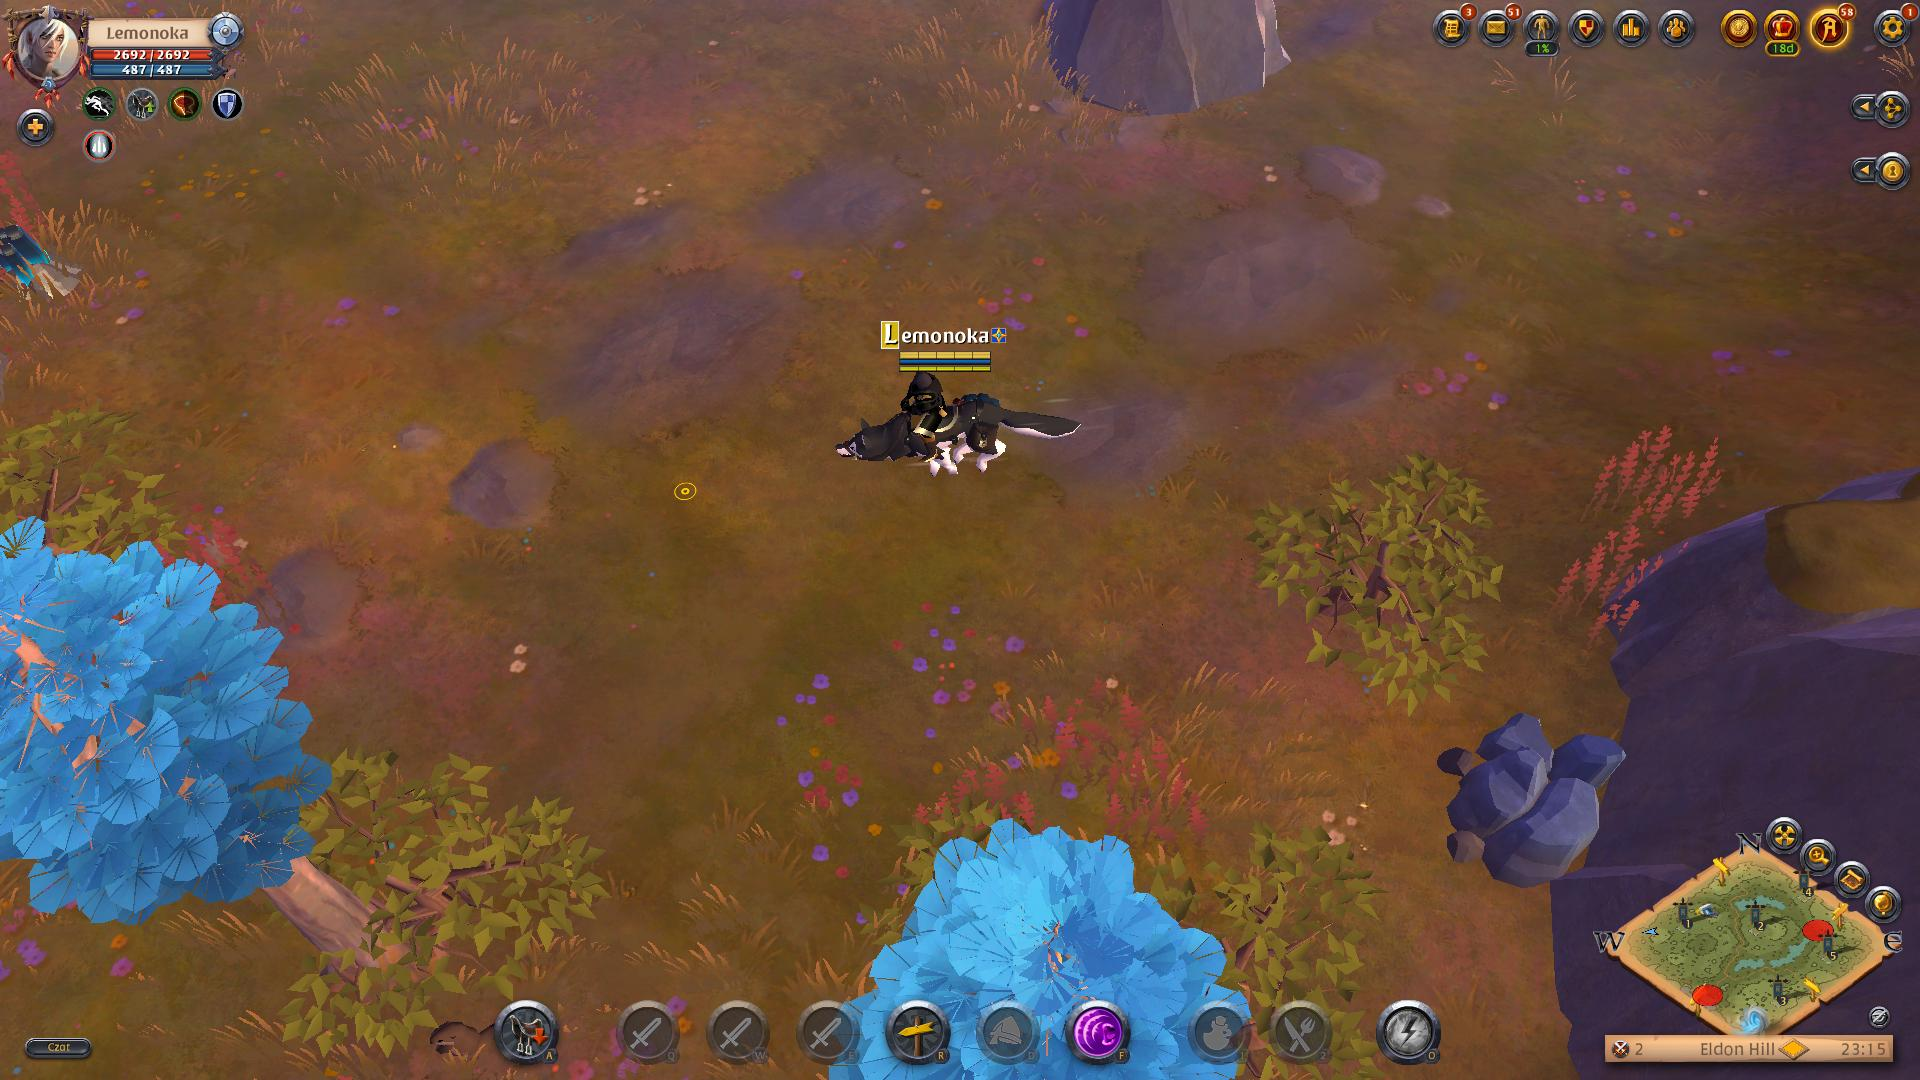rock tier 4: (1441, 707, 1629, 890)
wood tier 4: (0, 513, 334, 911)
